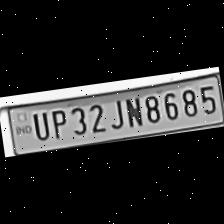2: (84, 100, 107, 134)
3: (66, 103, 88, 137)
5: (196, 81, 218, 116)
6: (158, 88, 179, 122)
8: (140, 92, 162, 125), (176, 86, 198, 119)
J: (104, 96, 125, 131)
N: (121, 94, 143, 128)
P: (46, 107, 68, 141)
U: (28, 109, 50, 142)
